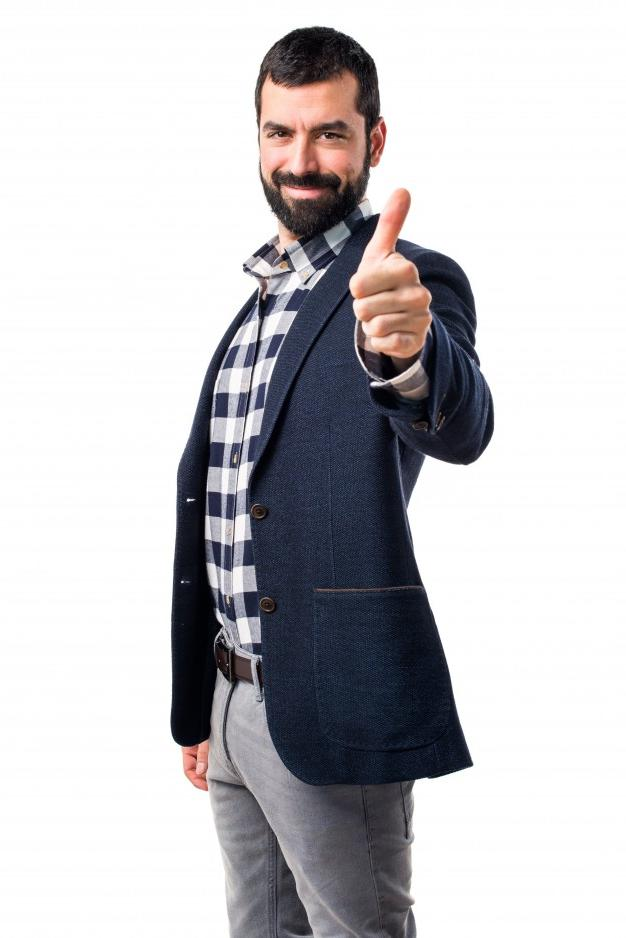thumbsup: (348, 187, 433, 354)
